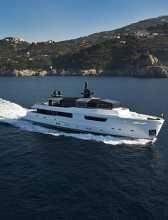yacht: (27, 77, 164, 145)
